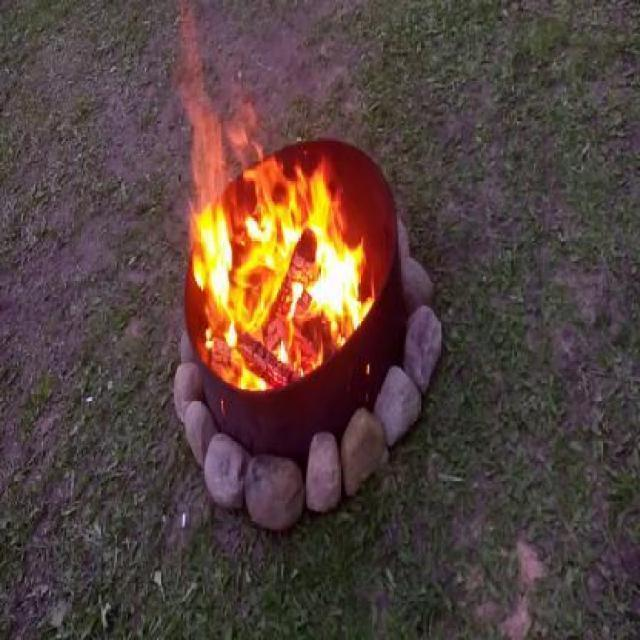Fire: (189, 159, 366, 390)
